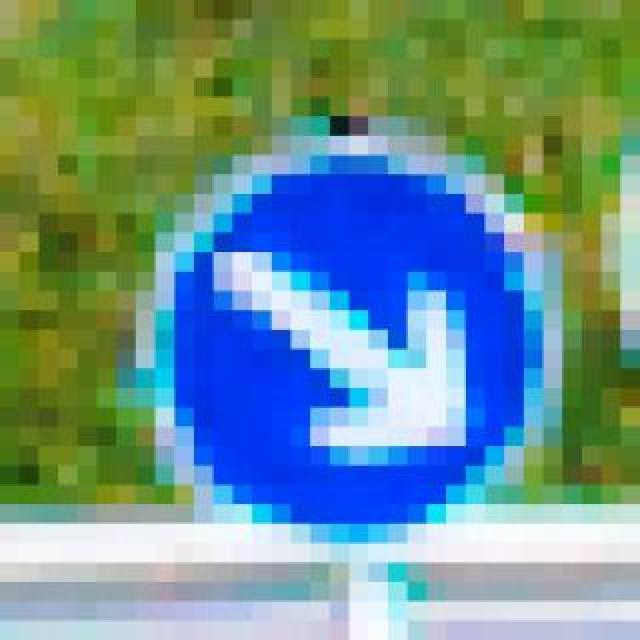keep right: (116, 98, 544, 562)
